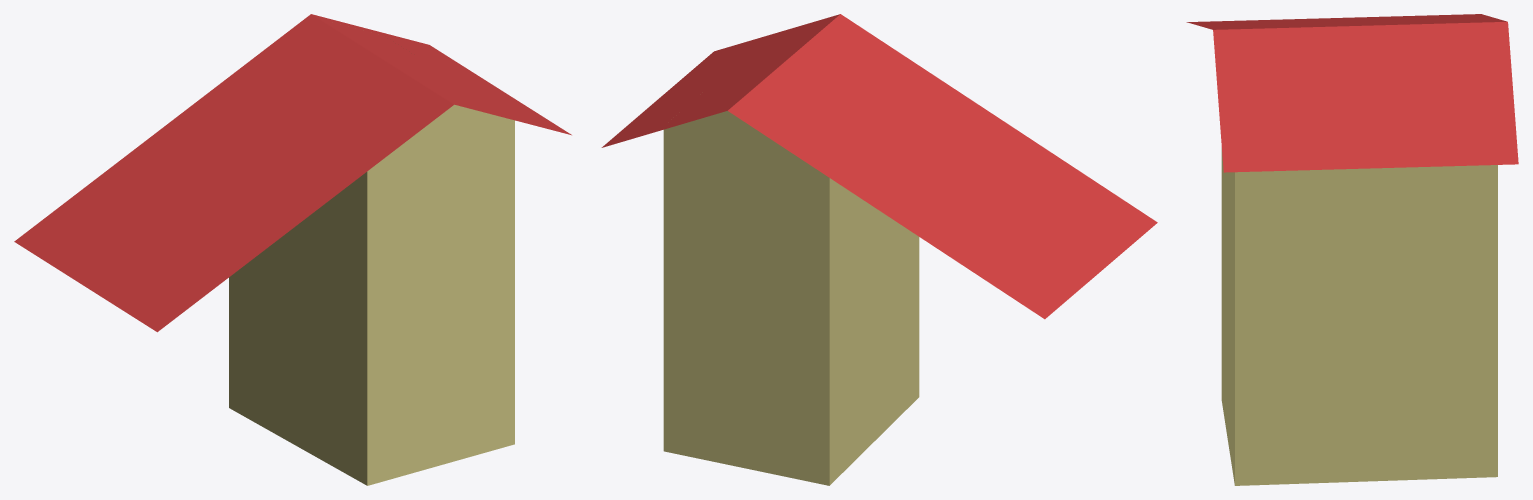
The picture shows the model from 3 angles, left to right: view 1: azimuth 30°, elevation 25°; view 2: azimuth 150°, elevation 25°; view 3: azimuth 270°, elevation 25°; orthographic projection. The views are drawn at different scales.
Size of the model in its own units: 9.36 by 5.26 by 7.29.
